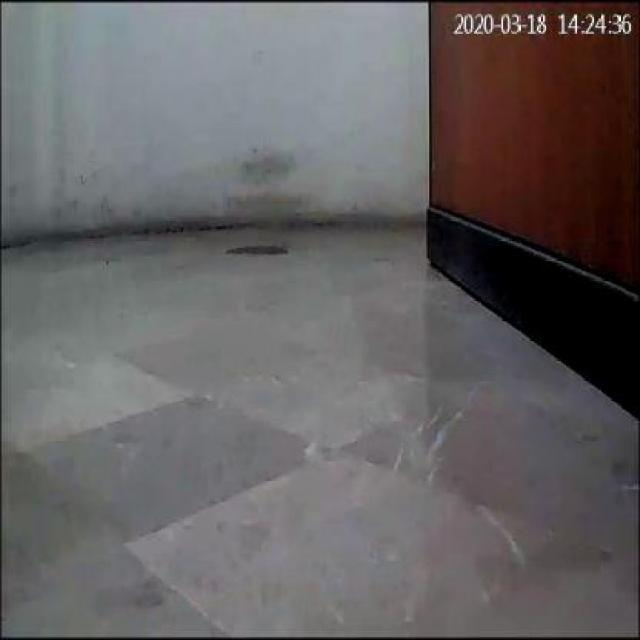spill: (224, 241, 290, 261)
